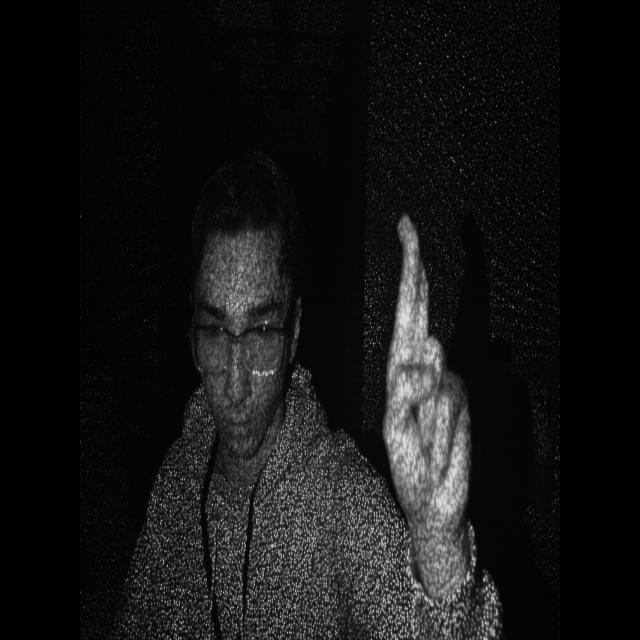R: (362, 202, 491, 522)
